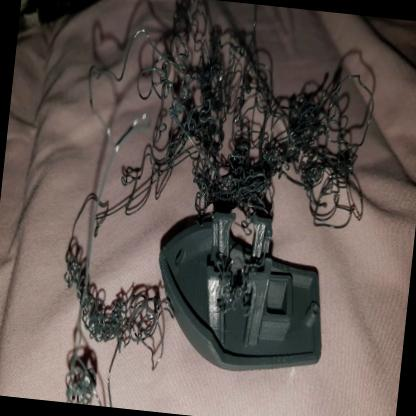fail: (107, 13, 382, 227), (82, 274, 164, 352)
